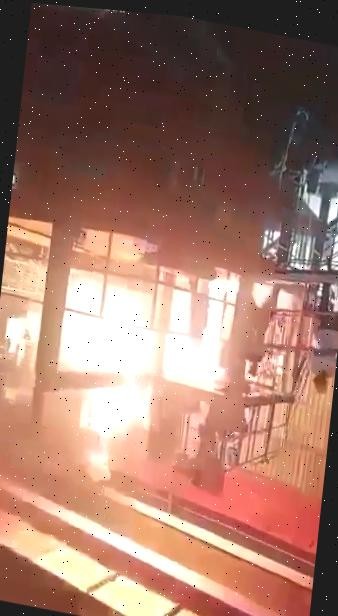fire: (34, 151, 286, 496)
